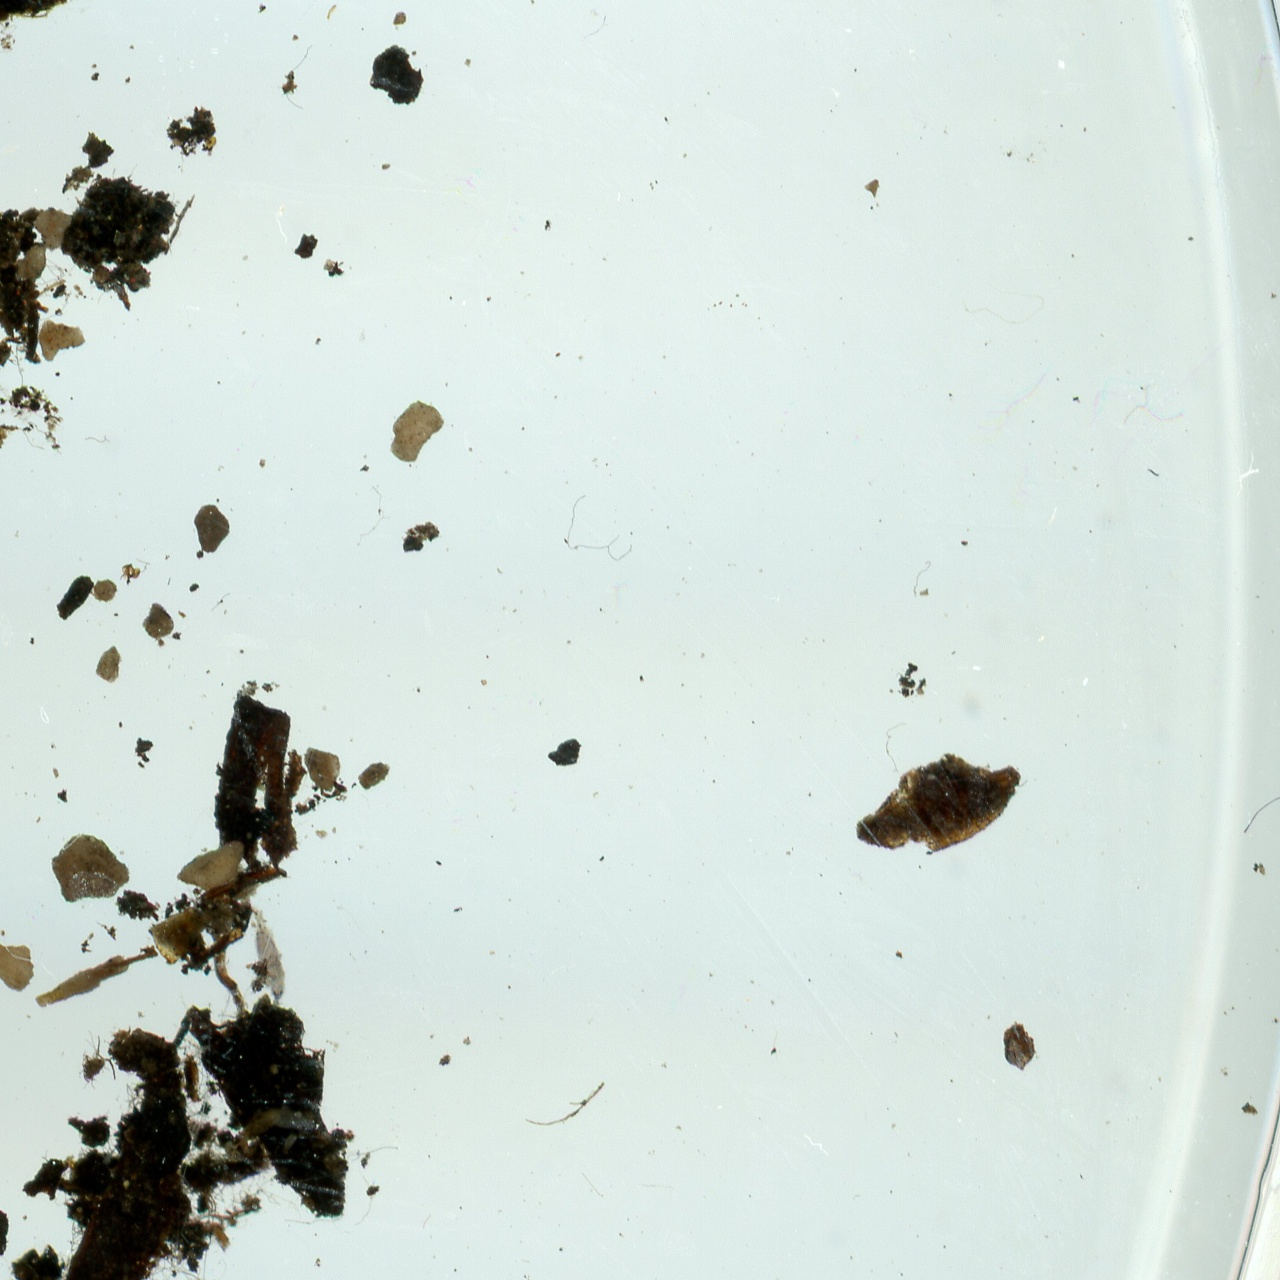arthropod: (242, 898, 295, 1012)
